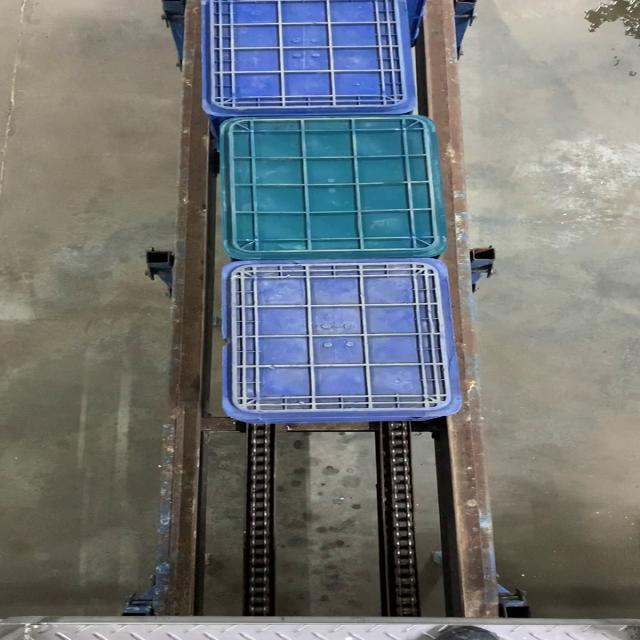Box: (215, 258, 459, 420), (213, 112, 451, 258)
